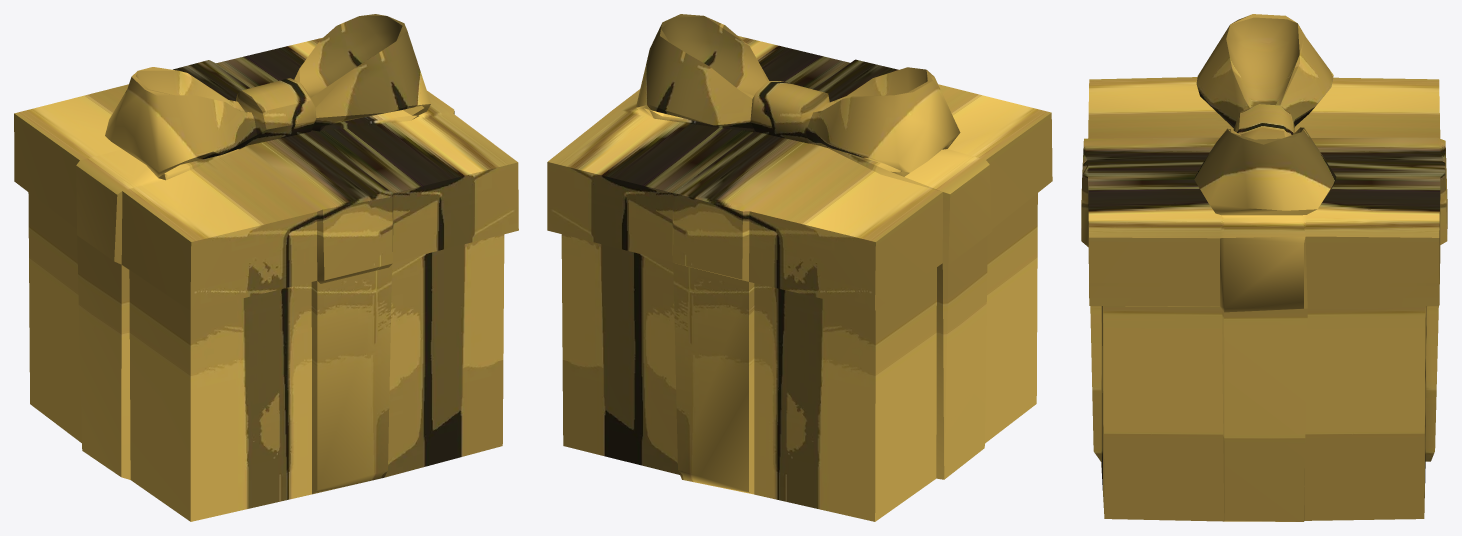
3 views of the same model, side by side, from view 1: azimuth 30°, elevation 25°; view 2: azimuth 150°, elevation 25°; view 3: azimuth 270°, elevation 25° (orthographic).
Visible parts, largest first — view 1: Decor_gift_box_display_b_gold; view 2: Decor_gift_box_display_b_gold; view 3: Decor_gift_box_display_b_gold.
Part boxes in pixels (left/top/right/bottom): Decor_gift_box_display_b_gold: left=14, top=14, right=518, bottom=521; Decor_gift_box_display_b_gold: left=547, top=14, right=1052, bottom=521; Decor_gift_box_display_b_gold: left=1081, top=14, right=1447, bottom=521.
Size of the model in its own units: 1.15 by 1.2 by 1.07.
Materials: 1 (1 with a texture image).
